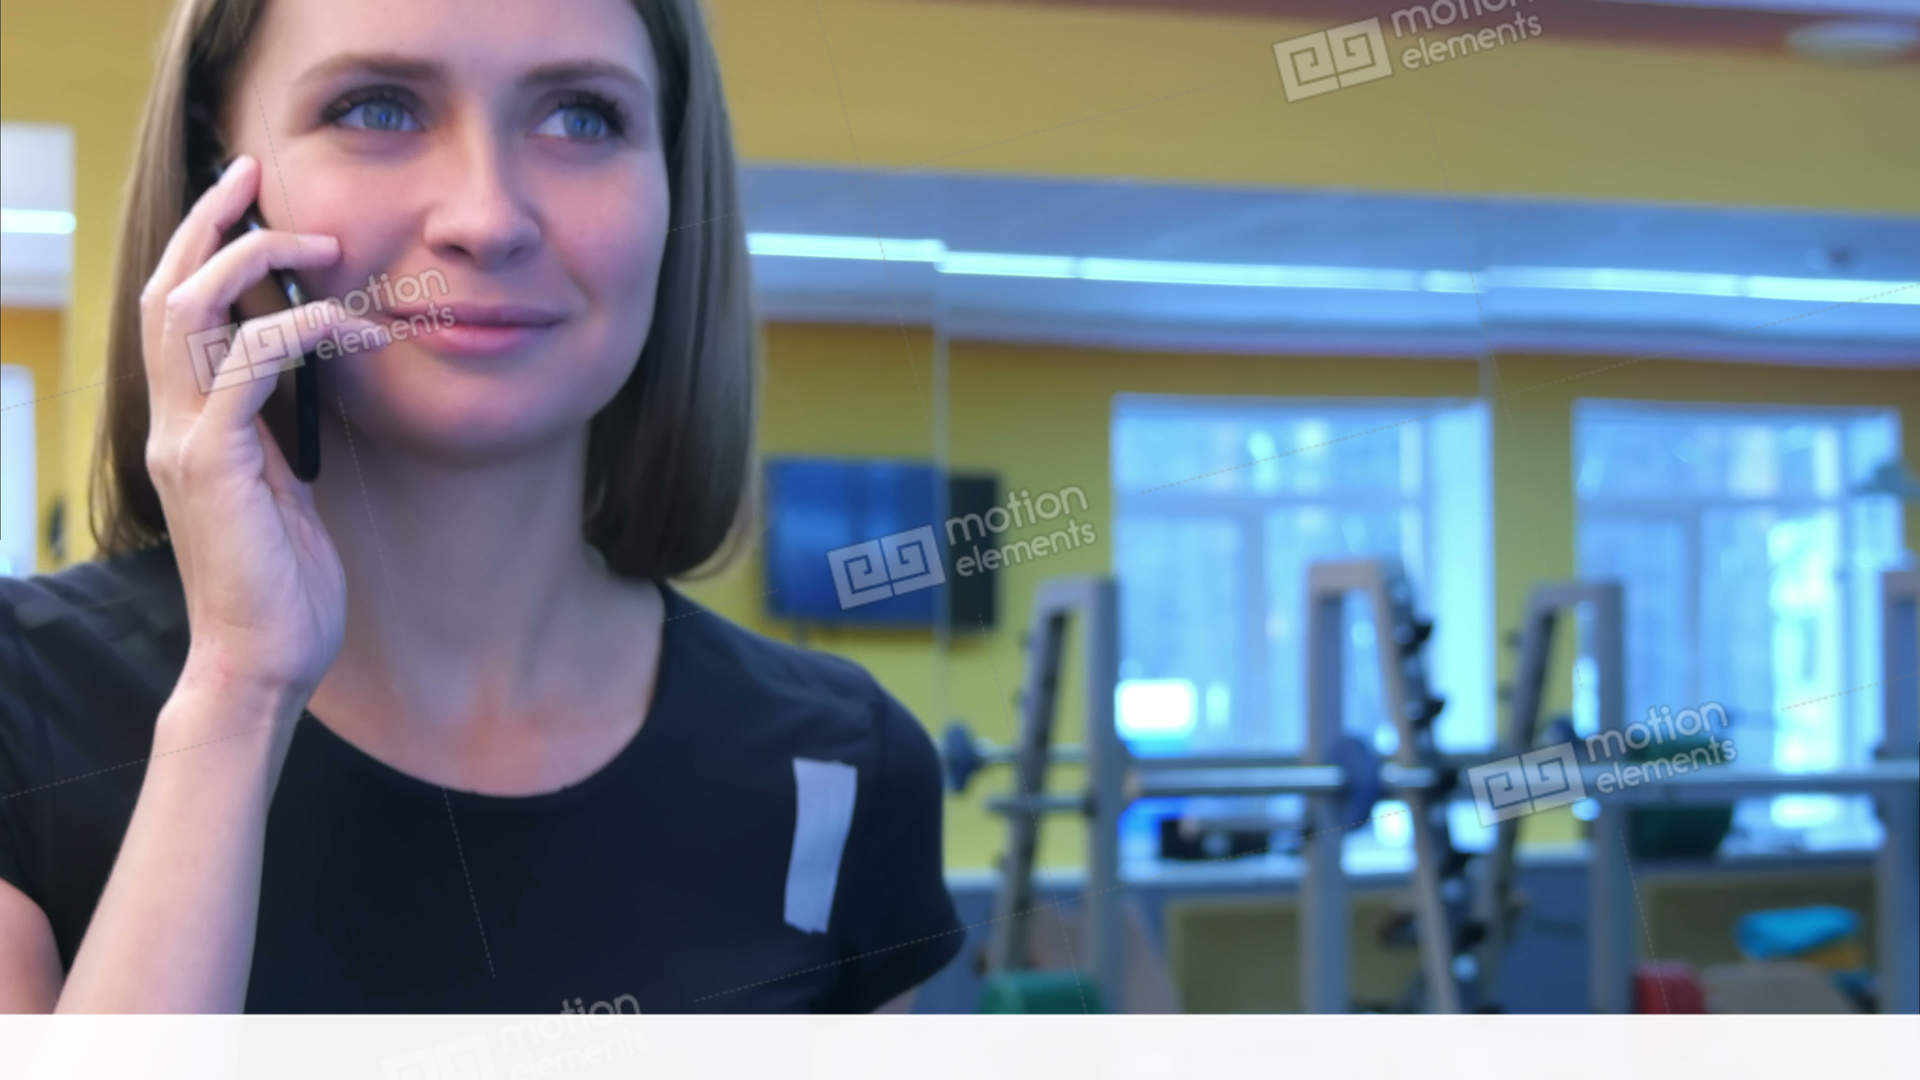phone: (138, 156, 389, 516)
talk: (131, 55, 655, 727)
